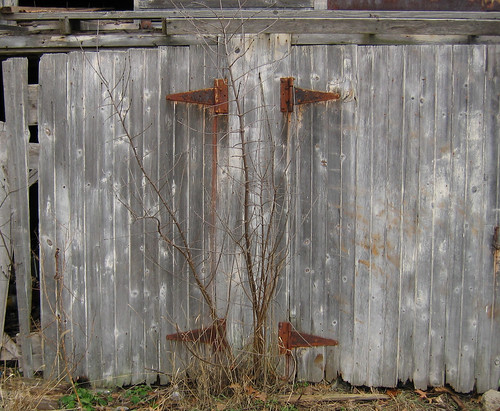door: (2, 40, 220, 383), (282, 37, 500, 380)
tree: (59, 31, 331, 392)
